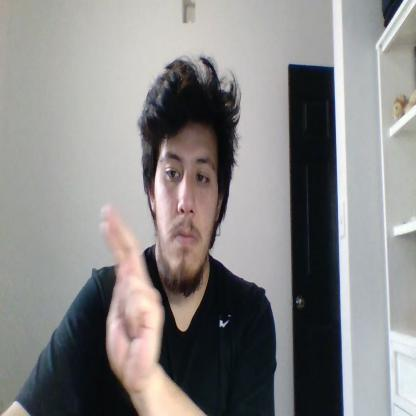R: (100, 204, 164, 388)
